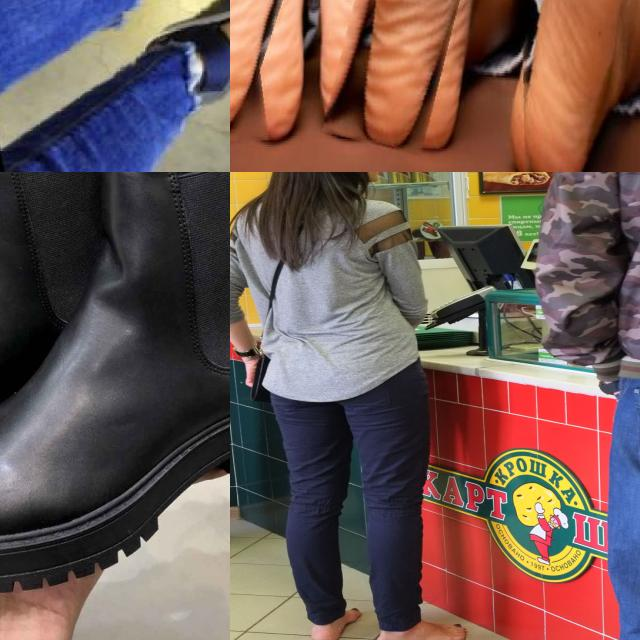Barefoots: (510, 0, 631, 172), (385, 0, 482, 154), (250, 0, 331, 140), (376, 620, 467, 640), (311, 607, 361, 640)
Sandals: (0, 172, 230, 610), (116, 0, 230, 125)
